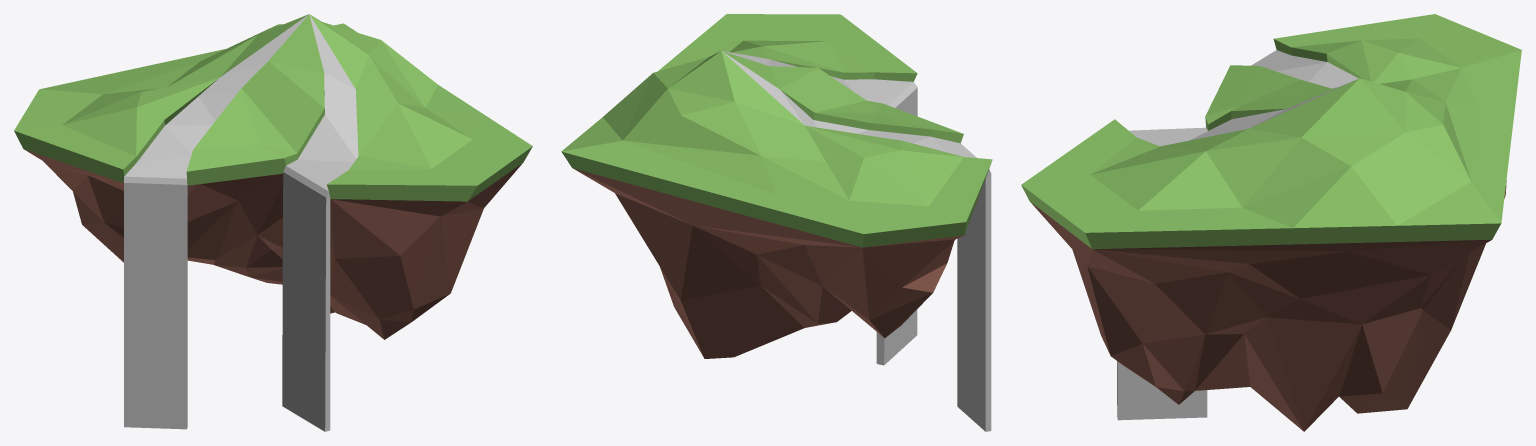
Rendered from Island16waterfall_tex.fbx.
3 views of the same model, side by side, from view 1: azimuth 30°, elevation 25°; view 2: azimuth 150°, elevation 25°; view 3: azimuth 270°, elevation 25° (orthographic). The views are drawn at different scales.
Parts seen in each view (by area): view 1: Island16waterfall_tex, Island16waterfall_tex.001; view 2: Island16waterfall_tex, Island16waterfall_tex.001; view 3: Island16waterfall_tex, Island16waterfall_tex.001.
Part boxes in pixels (<box>): Island16waterfall_tex: <box>14,14,532,339</box>; Island16waterfall_tex.001: <box>124,14,358,431</box>; Island16waterfall_tex: <box>561,14,992,358</box>; Island16waterfall_tex.001: <box>722,51,991,431</box>; Island16waterfall_tex: <box>1021,14,1521,431</box>; Island16waterfall_tex.001: <box>1117,50,1358,420</box>.
Bounding box in the file's own units: 3.83 × 3.27 × 3.7.
